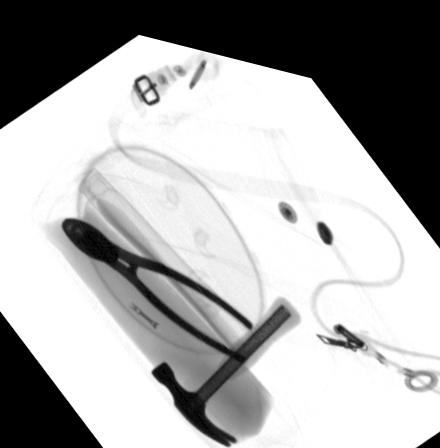Hammer: (149, 282, 300, 436)
Pliers: (61, 215, 253, 351)
